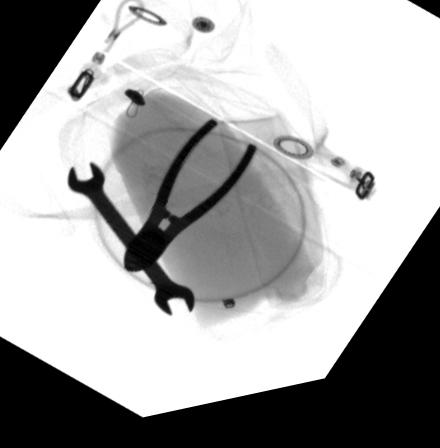Pliers: (123, 126, 257, 276)
Wrench: (66, 162, 196, 324)
